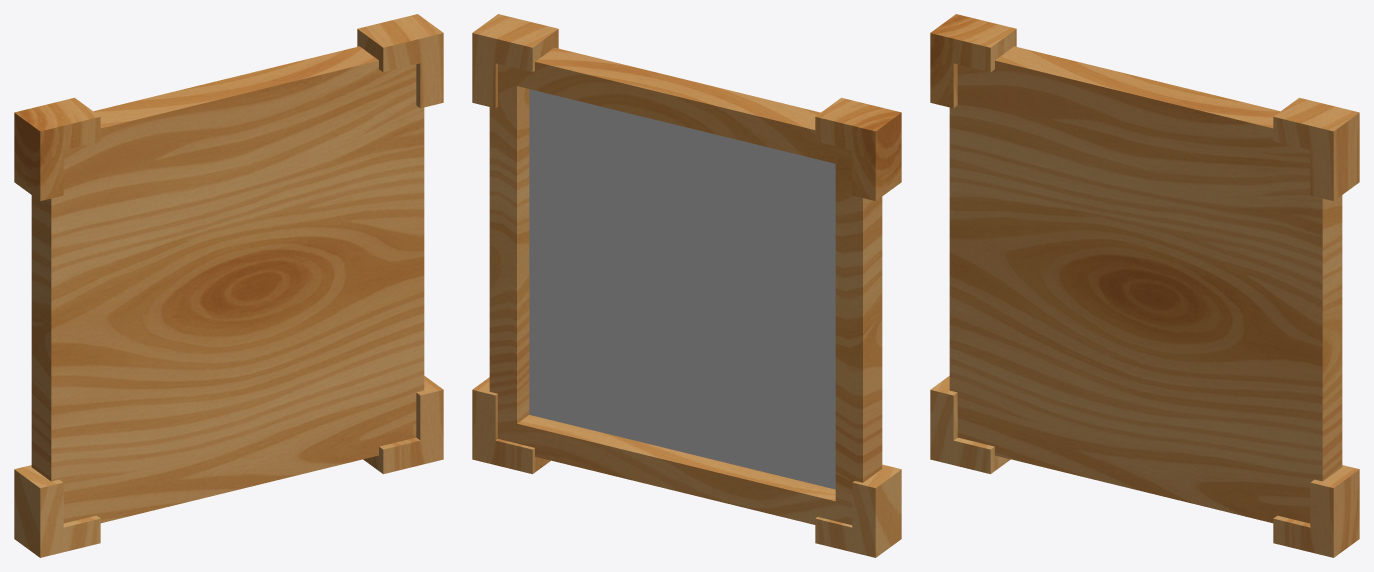
The model's file is Picture_Hang.fbx.
3 renders of one model, left to right at view 1: azimuth 30°, elevation 25°; view 2: azimuth 150°, elevation 25°; view 3: azimuth 330°, elevation 25°, orthographic.
Parts seen in each view (by area): view 1: Picture_Hang; view 2: Picture_Hang; view 3: Picture_Hang.
Part boxes in pixels (box(x1,y1,x2,y2)): Picture_Hang: box(14, 14, 443, 557); Picture_Hang: box(472, 14, 901, 557); Picture_Hang: box(930, 14, 1359, 557).
Bounding box in the file's own units: 72.71 × 73.42 × 8.11.
